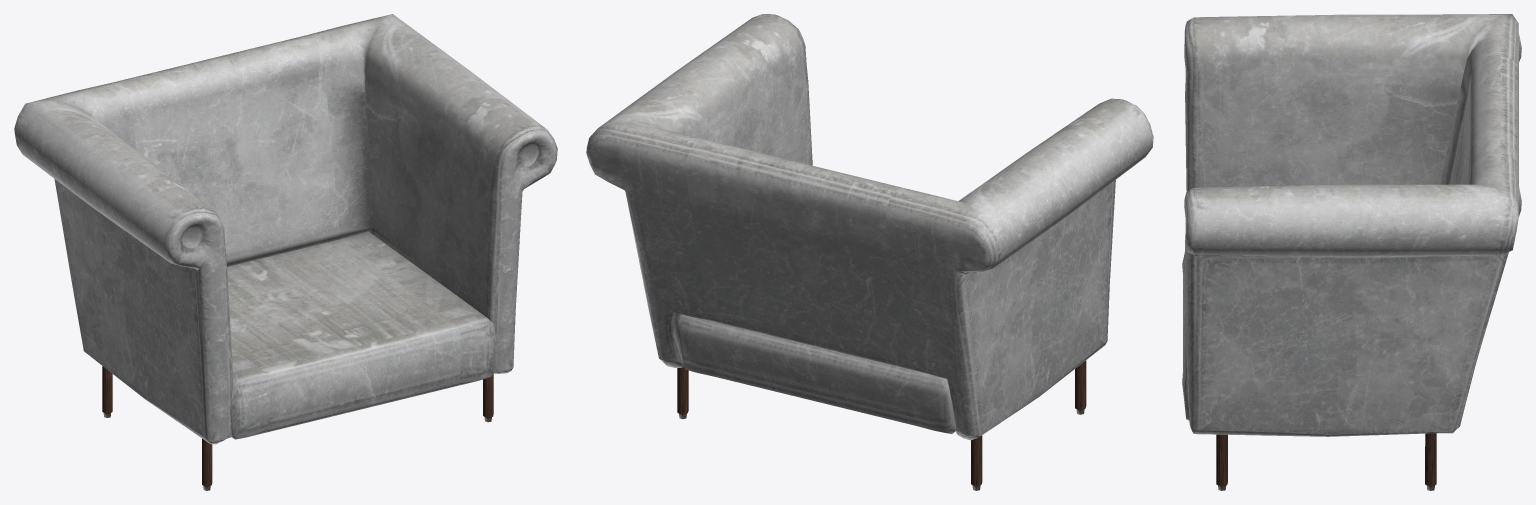
The model's file is couch_chair_base_1.gltf.
3 renders of one model, left to right at view 1: azimuth 30°, elevation 25°; view 2: azimuth 150°, elevation 25°; view 3: azimuth 270°, elevation 25°, orthographic. The views are drawn at different scales.
Parts seen in each view (by area): view 1: couch_chair_base_1.vmdl_c.couch001_chair_base; view 2: couch_chair_base_1.vmdl_c.couch001_chair_base; view 3: couch_chair_base_1.vmdl_c.couch001_chair_base.
Part boxes in pixels (x1,y1,x2,y2): couch_chair_base_1.vmdl_c.couch001_chair_base: (14,14,557,490); couch_chair_base_1.vmdl_c.couch001_chair_base: (586,14,1153,490); couch_chair_base_1.vmdl_c.couch001_chair_base: (1182,14,1521,490).
Size of the model in its own units: 1.2 by 0.8681 by 0.8499.
Materials: 1 (1 with a texture image).
